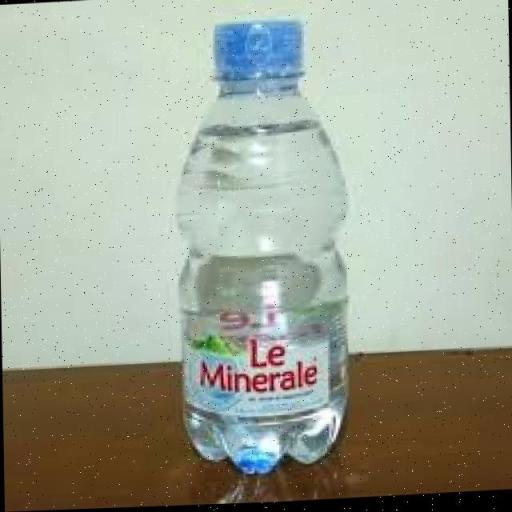plastic: (168, 12, 356, 486)
